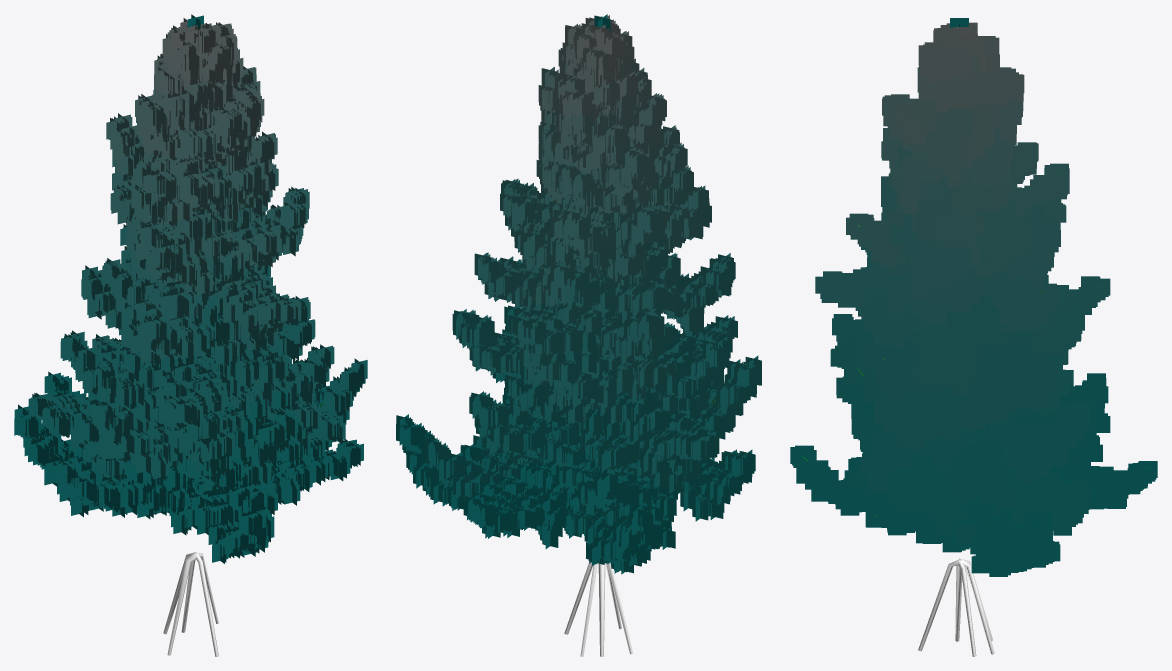
3 renders of one model, left to right at view 1: azimuth 30°, elevation 25°; view 2: azimuth 150°, elevation 25°; view 3: azimuth 270°, elevation 25°, orthographic.
Parts seen in each view (by area): view 1: Foliage, RootTips; view 2: Foliage, RootTips; view 3: Foliage, RootTips.
Part boxes in pixels (<box>): Foliage: <box>14,14,367,563</box>; RootTips: <box>163,552,218,656</box>; Foliage: <box>396,14,761,574</box>; RootTips: <box>564,562,632,656</box>; Foliage: <box>790,18,1157,576</box>; RootTips: <box>918,558,994,656</box>.
Size of the model in its own units: 8729 by 8754 by 16757.
